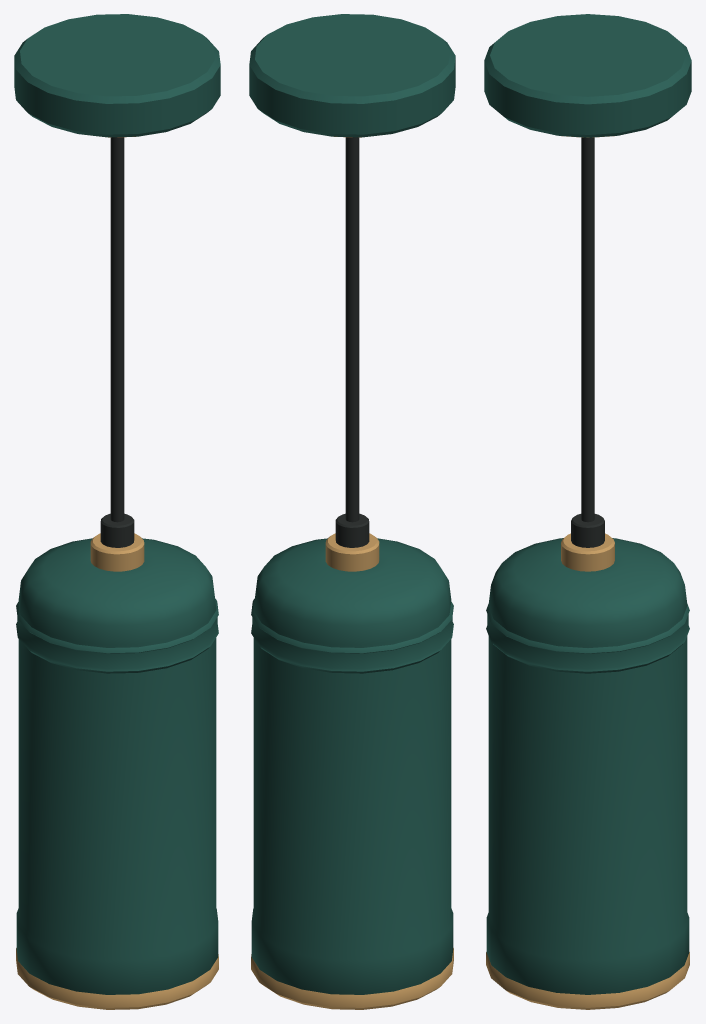
3 views of the same model, side by side, from view 1: azimuth 30°, elevation 25°; view 2: azimuth 150°, elevation 25°; view 3: azimuth 270°, elevation 25° (orthographic).
Visible parts, largest first — view 1: Fixture; view 2: Fixture; view 3: Fixture.
Boxes of the visible parts, x1,y1,x2,y2 form: Fixture: (14, 14, 220, 1009); Fixture: (249, 14, 455, 1009); Fixture: (484, 14, 691, 1009).
Bounding box in the file's own units: 0.092 × 0.447 × 0.092.
